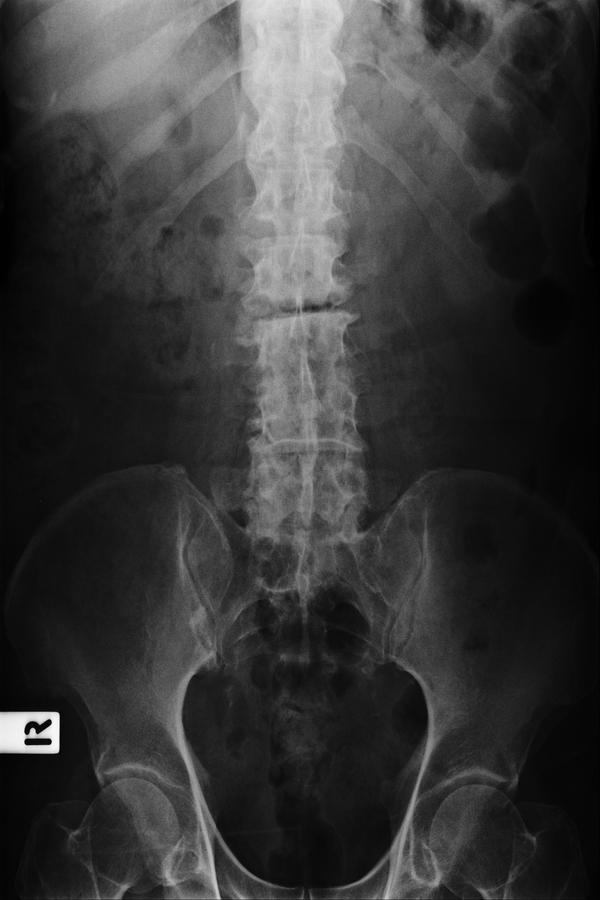lumbar scoliosis: (234, 8, 383, 552)
